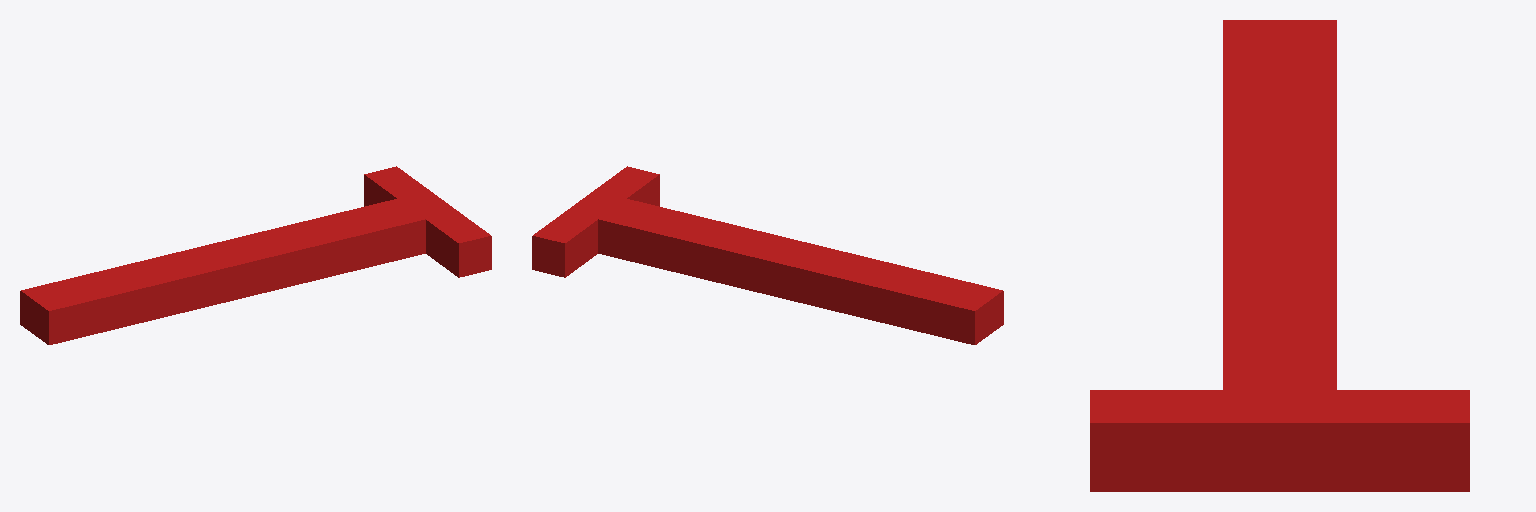
robot.urdf — peg_matchedmass:
<?xml version="1.0"?>
<!--
  peg variant with PHYSICALLY-MATCHED mass + true T-shape inertia tensor.

  Identical geometry to peg.urdf (same two visuals + colliders for the
  T-shape: handle + perpendicular head), but:
    - mass changed from 0.237500 kg -> 0.079000 kg
      Real 3D-printed peg measured at 79 g (Cornell lab).
      The original 0.2375 kg assumed solid PLA at 1250 kg/m^3 instead of
      the as-printed effective density ~416 kg/m^3 for this part.
    - inertia tensor recomputed as the parallel-axis sum of the two
      collision boxes about the T-shape's center of mass, with the
      corrected mass. The original peg.urdf used the handle-only formula
      (m_total / 12) * (h_y^2+h_z^2, h_x^2+h_z^2, h_x^2+h_y^2), which
      dropped the head's contribution entirely.

  Derivation (uniform density, vol-weighted mass split):
    V_h = 0.250 * 0.030 * 0.020 = 1.5e-4   m^3   (handle)
    V_d = 0.020 * 0.100 * 0.020 = 4.0e-5   m^3   (head)
    rho_eff = 0.079 / (V_h + V_d) = 415.79  kg/m^3
    m_h = rho_eff * V_h = 0.062368  kg
    m_d = rho_eff * V_d = 0.016632  kg
    CoM = (m_d * 0.115) / m_total = (0.024211, 0, 0) m
    I_about_CoM = sum_i  I_local_i  +  m_i * (||d_i||^2 I - d_i d_i^T)
    -> Ixx = 2.117e-05, Iyy = 5.017e-04, Izz = 5.176e-04
    -> Ixy = Ixz = Iyz = 0 (T-peg is symmetric in y and z)

  Use this URDF (via PROBLEM_REGISTRY["peg_matchedmass.tolXmm"]) to
  ablation-test whether policies trained on the original (3x too heavy,
  handle-only inertia) peg generalise to the physically realistic T.
-->
<robot name="peg_matchedmass">
  <material name="peg_red">
    <color rgba="0.8000 0.1569 0.1569 1.0"/>
  </material>
  <link name="peg_matchedmass">
    <visual>
      <origin xyz="0.000000 0.000000 0.000000" rpy="0 0 0"/>
      <geometry><box size="0.250000 0.030000 0.020000"/></geometry>
      <material name="peg_red"/>
    </visual>
    <visual>
      <origin xyz="0.115000 0.000000 0.000000" rpy="0 0 0"/>
      <geometry><box size="0.020000 0.100000 0.020000"/></geometry>
      <material name="peg_red"/>
    </visual>
    <collision>
      <origin xyz="0.000000 0.000000 0.000000" rpy="0 0 0"/>
      <geometry><box size="0.250000 0.030000 0.020000"/></geometry>
    </collision>
    <collision>
      <origin xyz="0.115000 0.000000 0.000000" rpy="0 0 0"/>
      <geometry><box size="0.020000 0.100000 0.020000"/></geometry>
    </collision>
    <inertial>
      <mass value="0.079000"/>
      <origin xyz="0.024211 0.000000 0.000000" rpy="0 0 0"/>
      <inertia ixx="2.117e-05" ixy="0" ixz="0" iyy="5.017e-04" iyz="0" izz="5.176e-04"/>
    </inertial>
  </link>
</robot>

--- Render facts (derived) ---
3 views of the same robot in one strip: view 1: azimuth 30°, elevation 25°; view 2: azimuth 150°, elevation 25°; view 3: azimuth 270°, elevation 25° (orthographic).
Model peg_matchedmass with 1 links and 0 joints (none), rooted at peg_matchedmass, posed every joint at zero.
Visible links, largest first — view 1: peg_matchedmass; view 2: peg_matchedmass; view 3: peg_matchedmass.
Link boxes in pixels (left/top/right/bottom): peg_matchedmass: left=20, top=166, right=491, bottom=344; peg_matchedmass: left=532, top=166, right=1003, bottom=344; peg_matchedmass: left=1090, top=20, right=1469, bottom=491.
Bounding box of the posed robot: 0.25 × 0.1 × 0.02 m (x, y, z).
Geometry: primitives only (box / cylinder / sphere), no mesh files.
